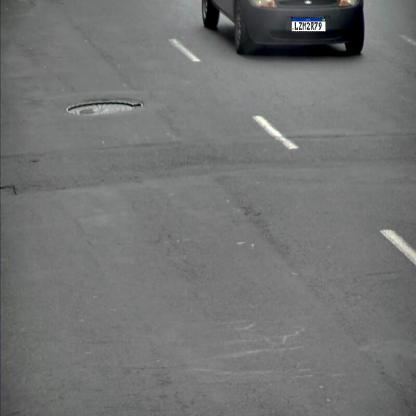PlacaM: (291, 17, 326, 32)
